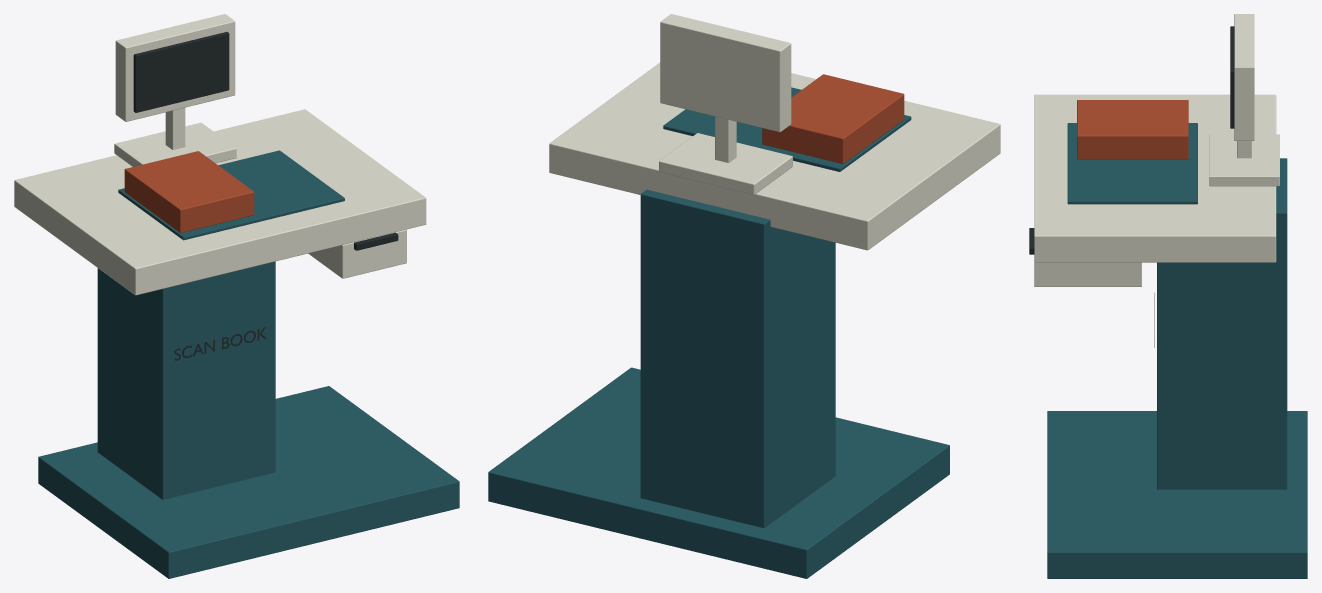
The model's file is source-edit.glb.
3 views of the same model, side by side, from view 1: azimuth 30°, elevation 25°; view 2: azimuth 150°, elevation 25°; view 3: azimuth 270°, elevation 25° (orthographic). The views are drawn at different scales.
Visible parts, largest first — view 1: Base, Pedestal, Book_Pad, Book, Screen, RFID_Surface, Screen_Housing, Terminal_Foot, Receipt_Printer_Housing, Terminal_Stem; view 2: Pedestal, Base, Book_Pad, Screen_Housing, Book, Terminal_Foot, RFID_Surface, Terminal_Stem; view 3: Base, Pedestal, Book_Pad, RFID_Surface, Book, Terminal_Foot, Receipt_Printer_Housing, Screen_Housing, Screen.
Part boxes in pixels (x1=…): Base: x1=38, y1=386, x2=459, y2=578; Pedestal: x1=97, y1=261, x2=275, y2=499; Book_Pad: x1=14, y1=109, x2=426, y2=295; Book: x1=124, y1=151, x2=254, y2=232; Screen: x1=133, y1=32, x2=229, y2=112; RFID_Surface: x1=118, y1=150, x2=344, y2=240; Screen_Housing: x1=115, y1=14, x2=235, y2=121; Terminal_Foot: x1=114, y1=122, x2=236, y2=166; Receipt_Printer_Housing: x1=308, y1=229, x2=406, y2=278; Terminal_Stem: x1=165, y1=107, x2=185, y2=149; Pedestal: x1=640, y1=189, x2=835, y2=528; Base: x1=488, y1=367, x2=949, y2=578; Book_Pad: x1=549, y1=62, x2=1000, y2=250; Screen_Housing: x1=660, y1=14, x2=791, y2=132; Book: x1=762, y1=74, x2=904, y2=163; Terminal_Foot: x1=659, y1=133, x2=792, y2=194; RFID_Surface: x1=663, y1=87, x2=911, y2=171; Terminal_Stem: x1=715, y1=116, x2=736, y2=162; Base: x1=1047, y1=411, x2=1307, y2=578; Pedestal: x1=1157, y1=158, x2=1287, y2=489; Book_Pad: x1=1034, y1=94, x2=1276, y2=262; RFID_Surface: x1=1067, y1=123, x2=1197, y2=204; Book: x1=1077, y1=100, x2=1188, y2=159; Terminal_Foot: x1=1209, y1=134, x2=1279, y2=186; Receipt_Printer_Housing: x1=1034, y1=262, x2=1141, y2=286; Screen_Housing: x1=1234, y1=14, x2=1254, y2=140; Screen: x1=1230, y1=26, x2=1234, y2=128.
Size of the model in its own units: 1.02 by 1.33 by 0.7485.
